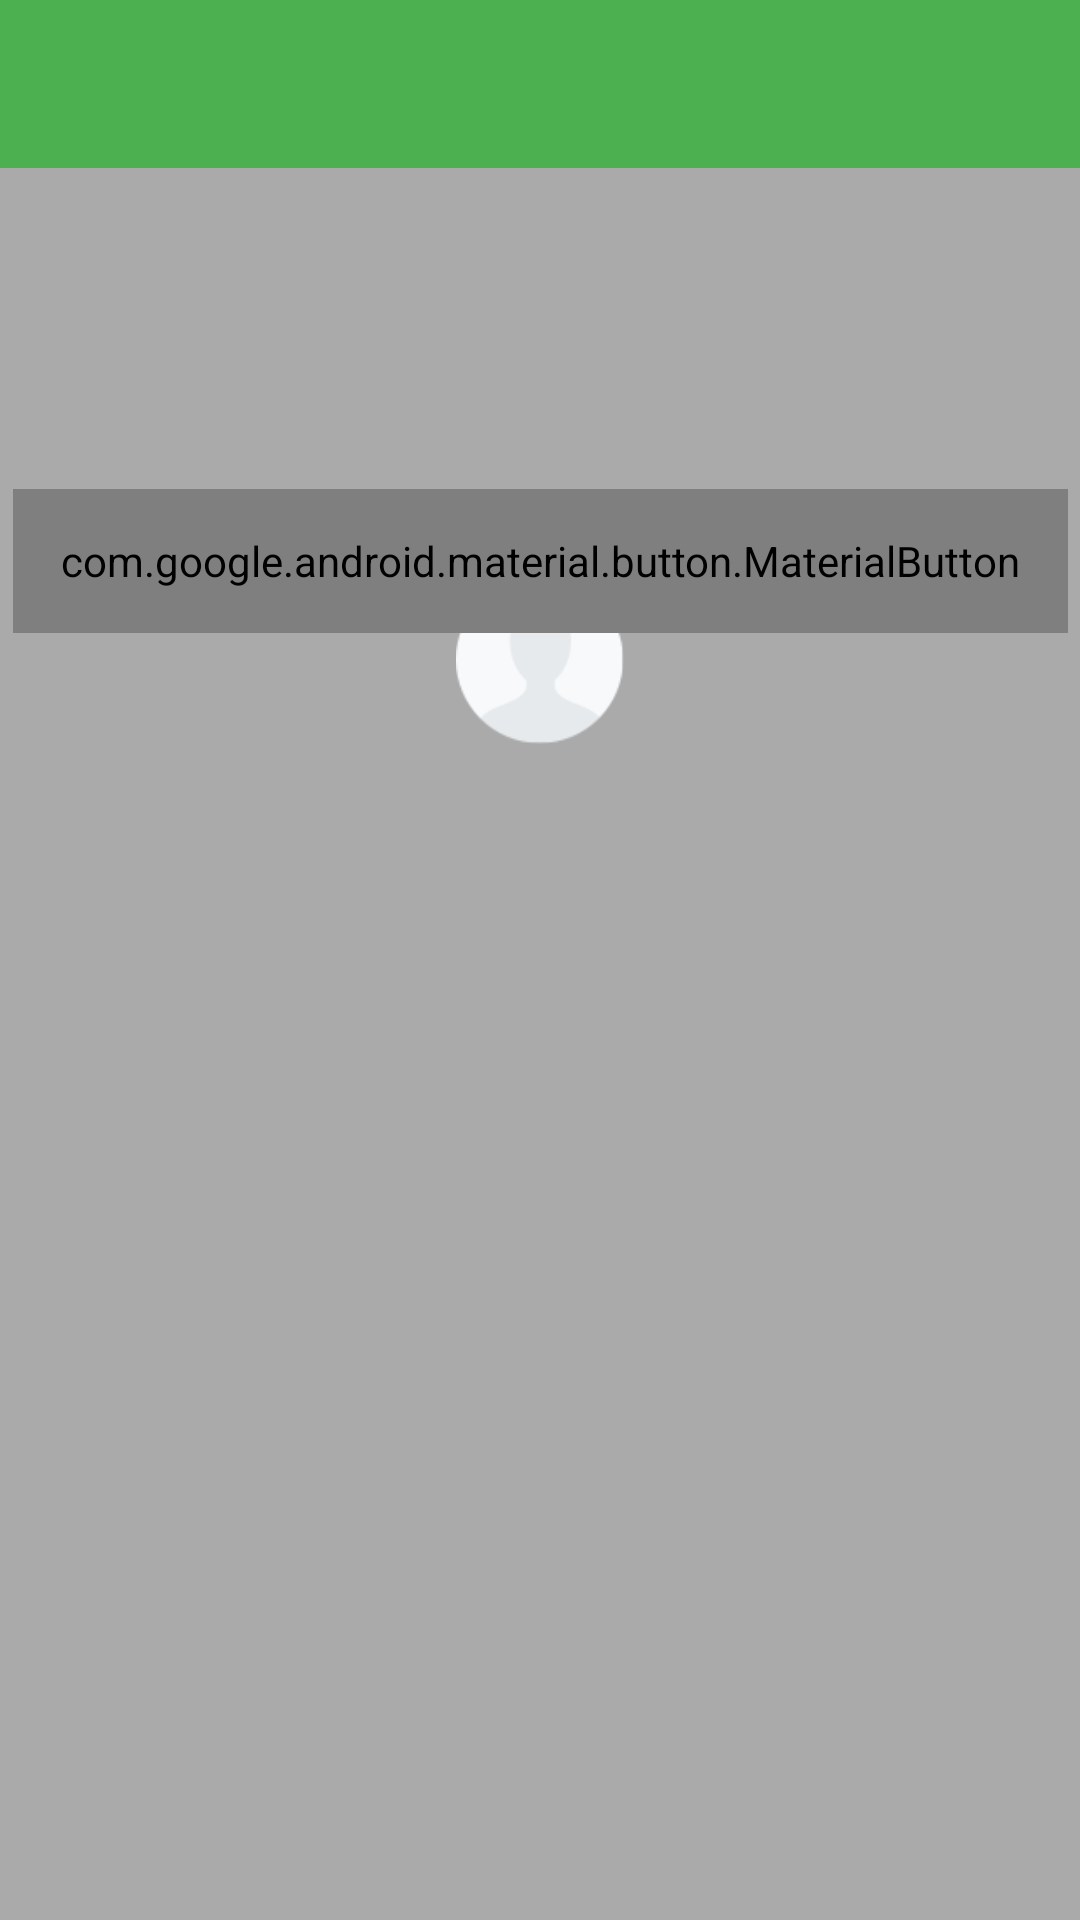

Point at icon controls on the screen. Image size 1080x1920, points as [x,y].
people: [540,660]
